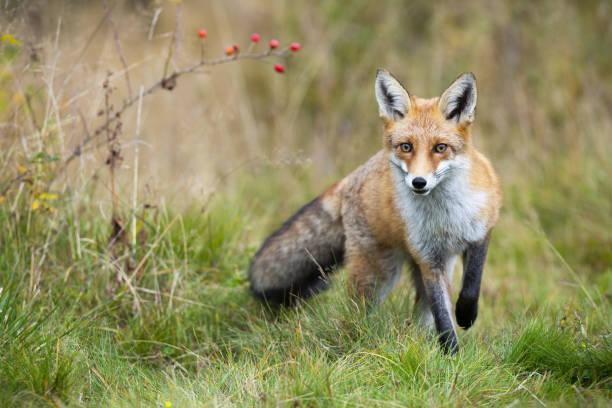fox: (238, 68, 512, 357)
